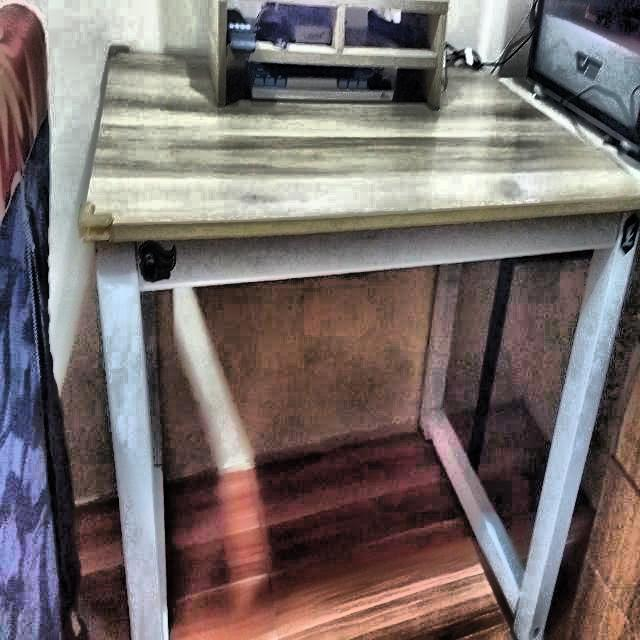mesa: (83, 30, 640, 640)
